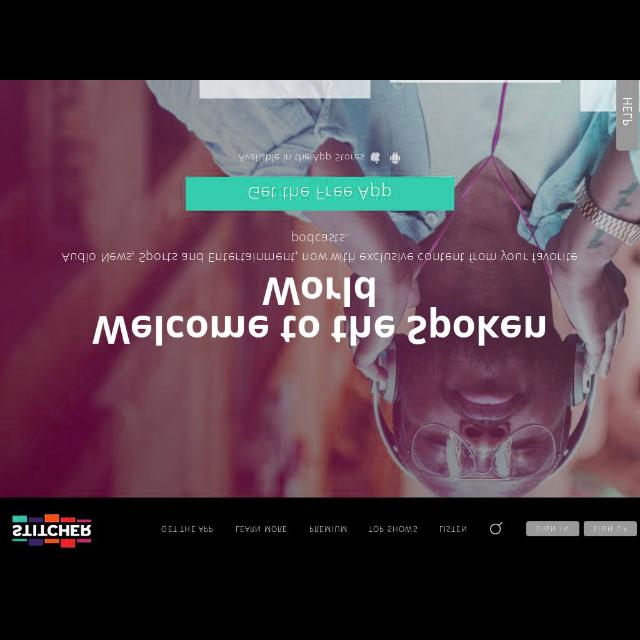backgroundimage: (3, 81, 634, 495)
icon: (488, 520, 504, 534), (369, 151, 383, 163), (390, 152, 402, 164)
image: (8, 513, 92, 543)
text: (88, 316, 548, 344), (63, 253, 577, 261), (262, 276, 374, 306), (239, 152, 365, 162), (290, 231, 348, 243), (158, 524, 216, 536), (367, 524, 418, 536), (236, 524, 286, 534), (309, 526, 346, 534), (439, 526, 466, 532)
textbutton: (186, 178, 454, 210), (526, 522, 580, 534), (584, 522, 638, 534)
toolbar: (0, 498, 638, 558)
